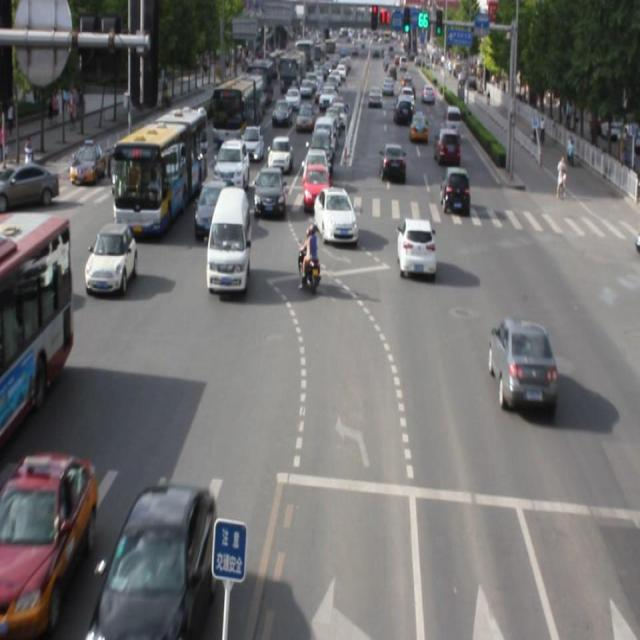car: (95, 482, 214, 640), (0, 453, 94, 629), (490, 317, 555, 413), (86, 224, 137, 294), (312, 183, 356, 244), (394, 217, 434, 276), (195, 180, 229, 238)
truck: (207, 188, 248, 292)
van: (1, 212, 72, 420), (115, 111, 205, 232)
